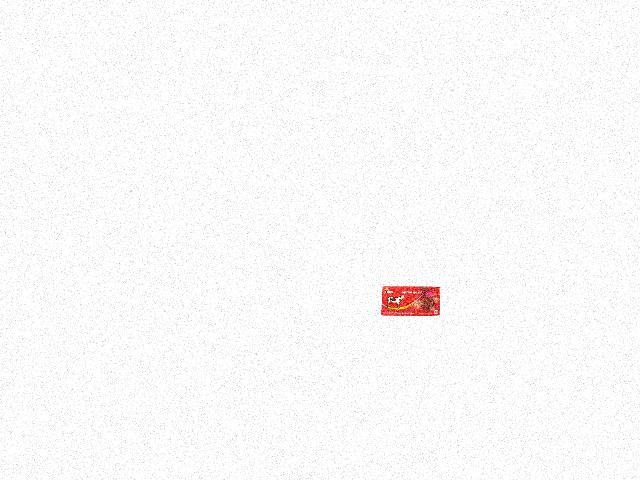chocolate: (378, 286, 440, 318)
